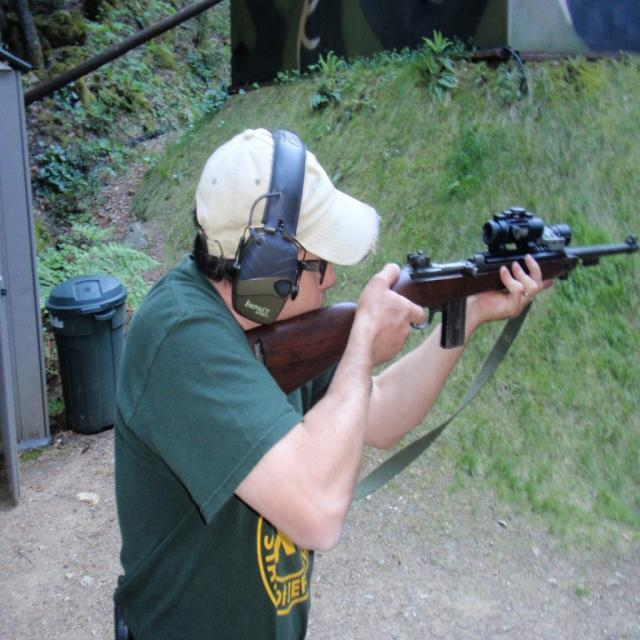weapon: (244, 194, 640, 408)
